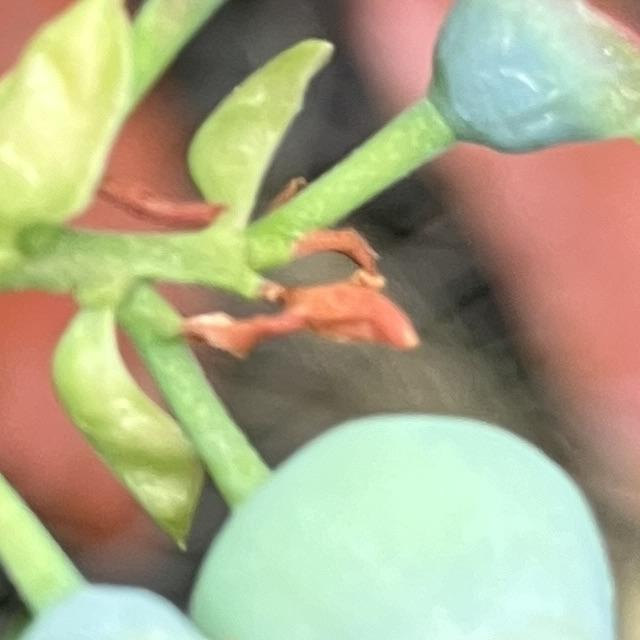Blueberries: (179, 389, 640, 640)
